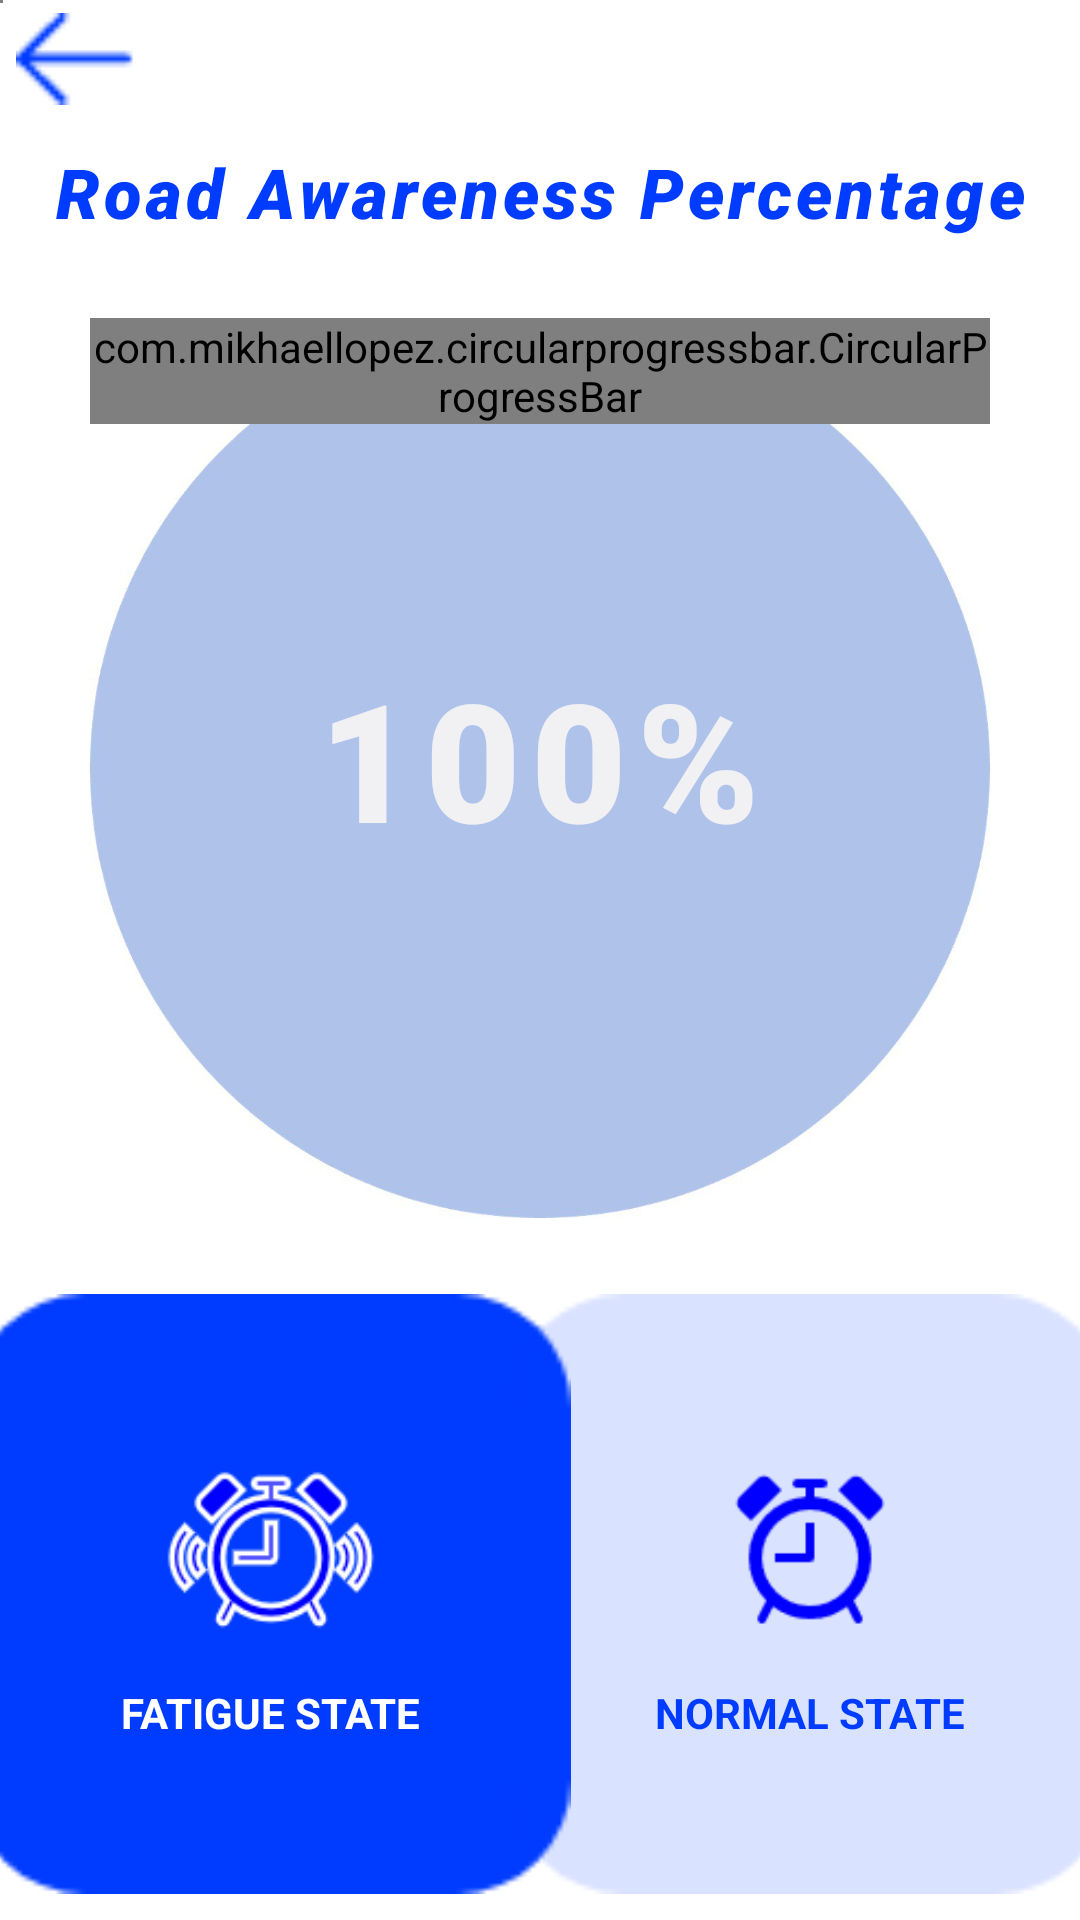

Screen size 1080x1920. Icon name, then its box in pixels as (x1, y1, x2, y2):
back: (16, 13, 133, 105)
